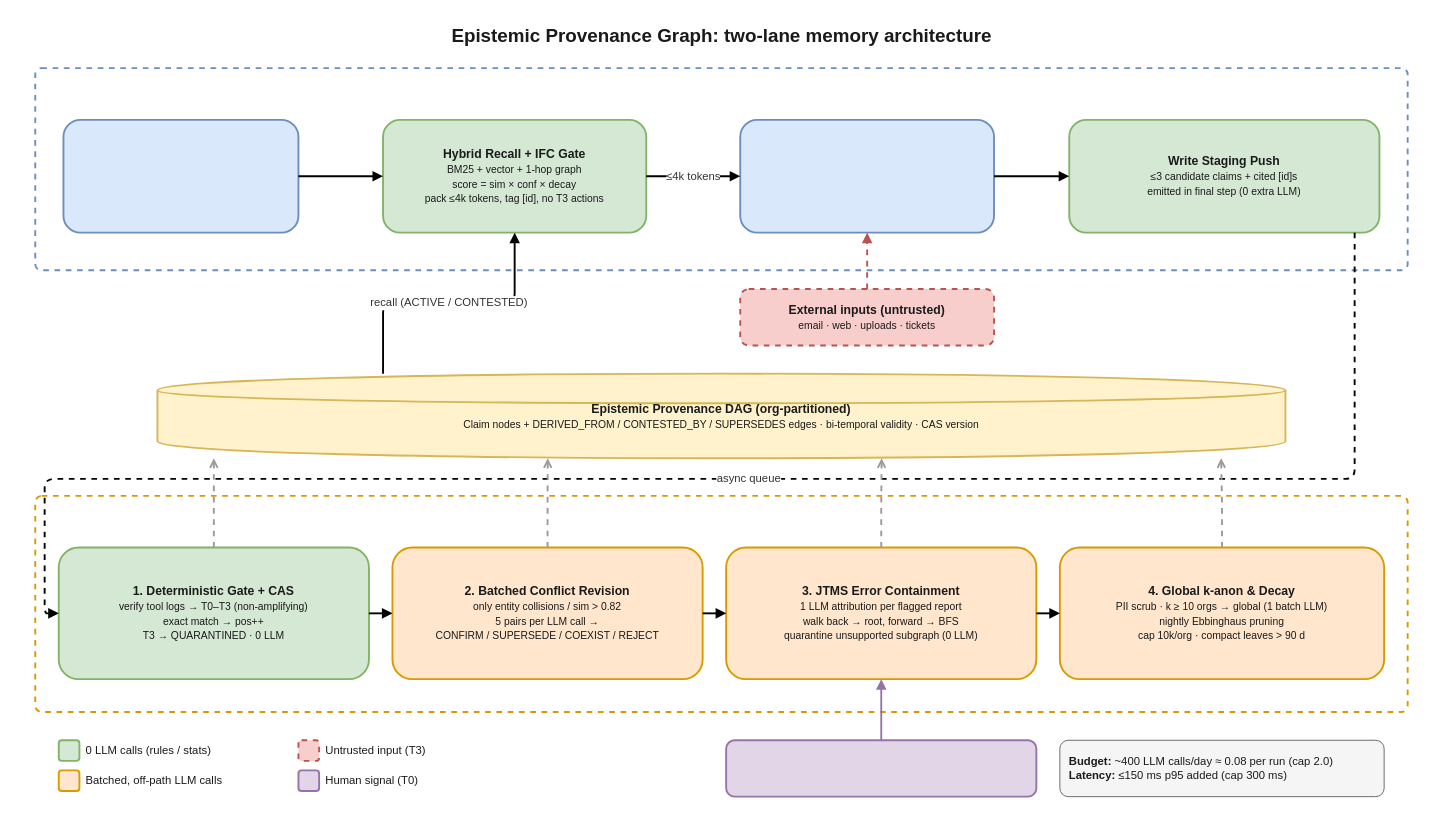
Image size: 1442x813. Some labels were removed from this diagram. Here are the shapes that lost their labels. From the top down, the box of each, then its label:
(62, 118, 299, 233): Task Queue 5,000 tasks/day · 200 orgs org_id + task_context
(34, 67, 1408, 271): HOT PATH: critical path (0 LLM calls, ≤150 ms p95)
(739, 118, 995, 233): Headless Agent Loop Black-box LLM + tools reads untrusted inputs
(34, 494, 1408, 713): SLEEP-TIME ASYNC LANE: off critical path (~0.08 to 0.30 LLM calls/run avg)
(725, 739, 1037, 797): Delayed human feedback ~2% of outputs, days later
